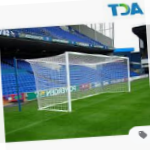goals: (33, 51, 133, 114)
